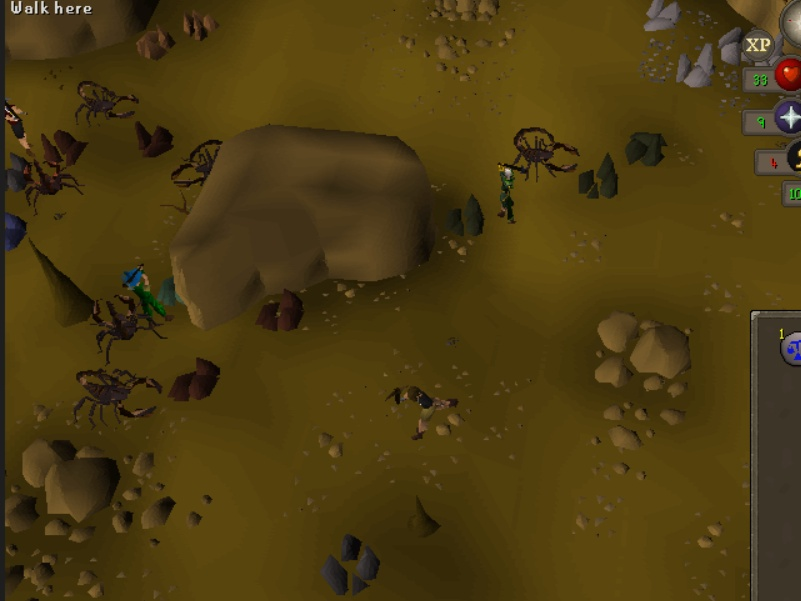coal: (575, 146, 626, 202), (440, 187, 491, 243), (620, 123, 671, 179)
copper: (132, 20, 180, 63), (169, 2, 217, 45)
iron: (167, 353, 225, 404), (129, 115, 181, 163), (38, 119, 90, 167), (255, 285, 307, 333)
mithril: (1, 209, 30, 252)
tin: (671, 41, 722, 90), (716, 25, 764, 68), (638, 1, 686, 43)
